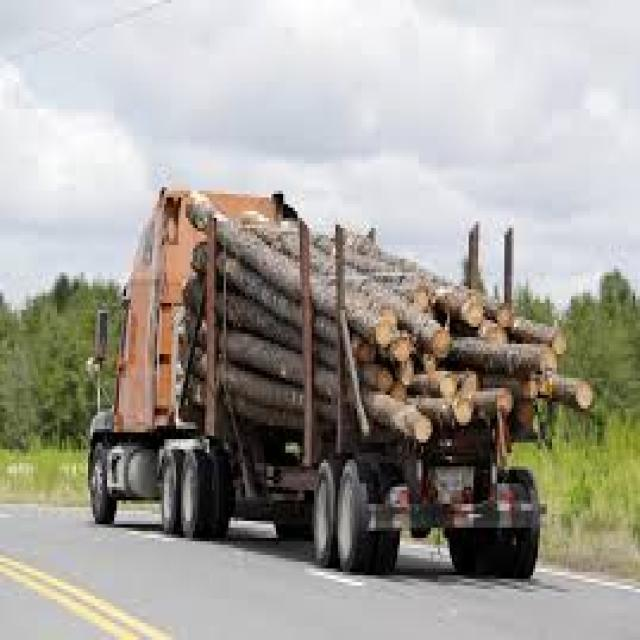Truck: (86, 180, 534, 586)
